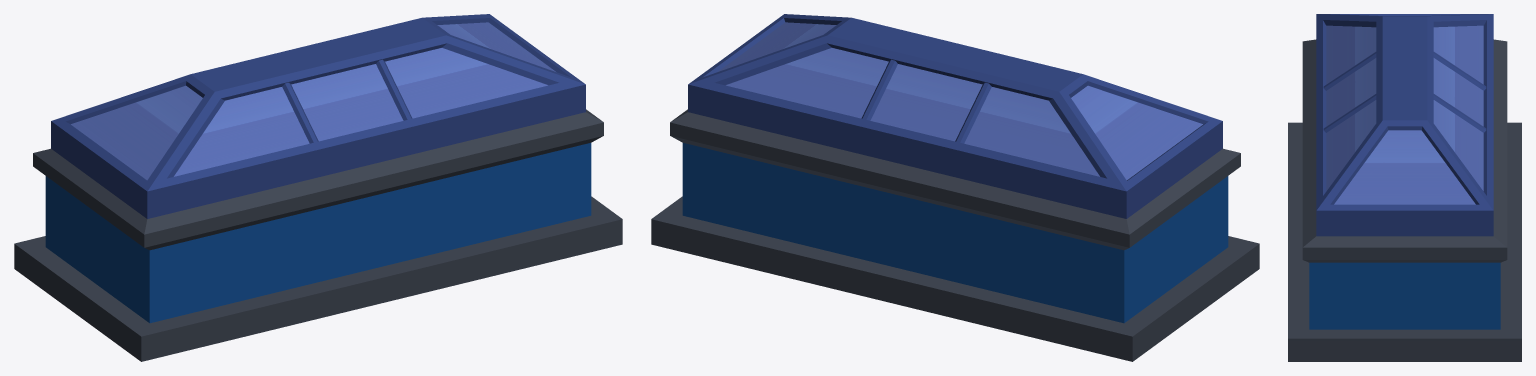
Rendered from RoofLights_2_E.fbx.
3 renders of one model, left to right at view 1: azimuth 30°, elevation 25°; view 2: azimuth 150°, elevation 25°; view 3: azimuth 270°, elevation 25°, orthographic. The views are drawn at different scales.
Visible parts, largest first — view 1: RoofLights_2_E; view 2: RoofLights_2_E; view 3: RoofLights_2_E.
Part boxes in pixels (x1,y1,x2,y2): RoofLights_2_E: (14,14,622,361); RoofLights_2_E: (651,14,1259,361); RoofLights_2_E: (1288,14,1521,361).
Size of the model in its own units: 216 by 86.65 by 98.88.
